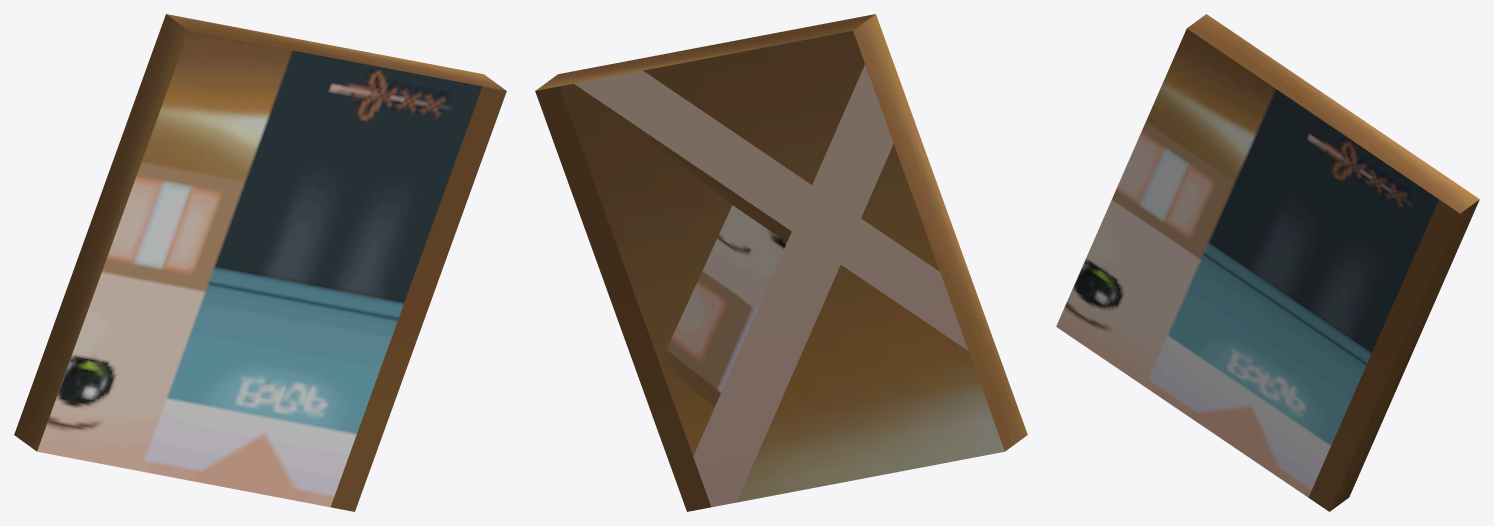
The model's file is VIEW.ICO.obj.
3 views of the same model, side by side, from view 1: azimuth 30°, elevation 25°; view 2: azimuth 150°, elevation 25°; view 3: azimuth 330°, elevation 25° (orthographic). The views are drawn at different scales.
Size of the model in its own units: 4.44 by 4.71 by 0.375.
